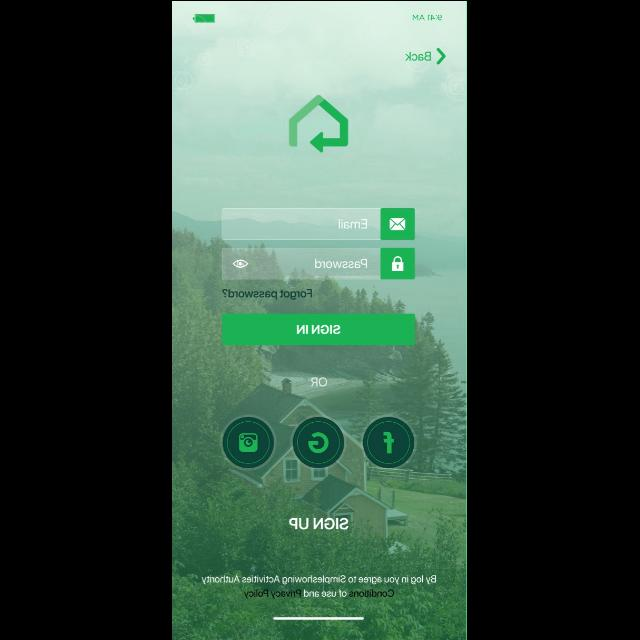backgroundimage: (172, 1, 468, 640)
icon: (364, 418, 414, 468), (294, 418, 344, 468), (390, 218, 406, 230), (392, 256, 404, 270), (438, 48, 447, 64), (234, 259, 248, 267)
image: (290, 94, 348, 152), (223, 418, 274, 468)
input: (222, 208, 416, 240), (222, 247, 416, 279)
text: (202, 575, 436, 599), (223, 288, 313, 300), (289, 518, 349, 530), (316, 258, 368, 268), (338, 219, 368, 229), (405, 51, 431, 60), (311, 377, 327, 387)
textbutton: (223, 313, 415, 345)
uppertaskbar: (193, 13, 443, 23)
